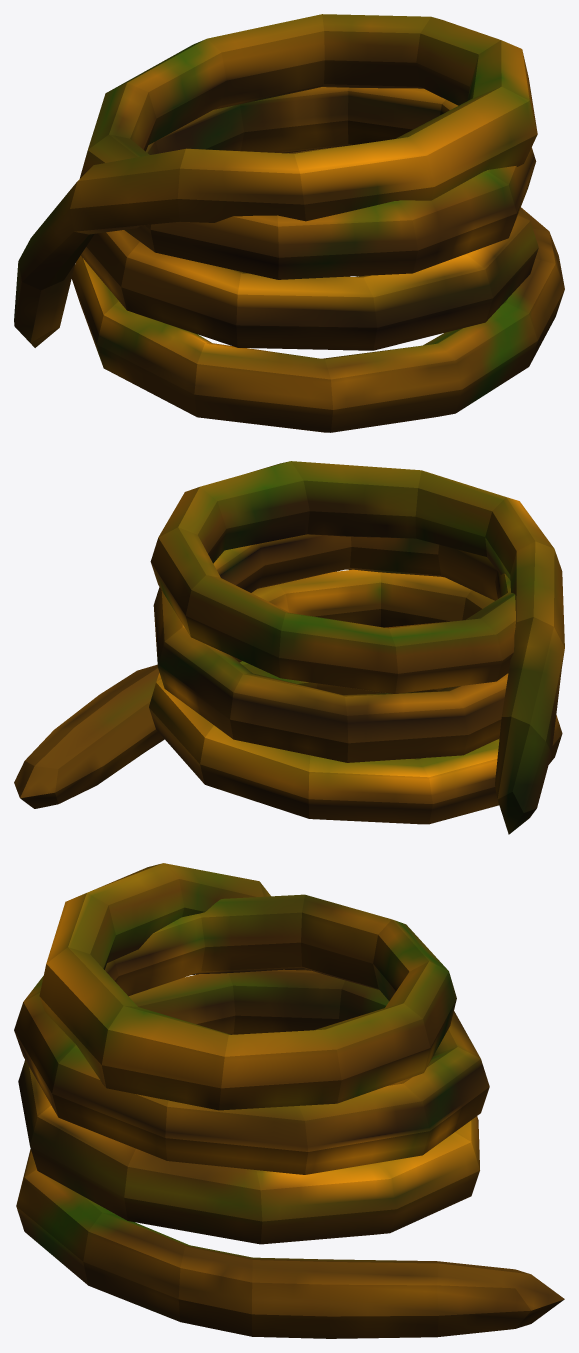
File: UnityLianeItem.fbx
3 views of the same model, one above another, from view 1: azimuth 30°, elevation 25°; view 2: azimuth 150°, elevation 25°; view 3: azimuth 270°, elevation 25° (orthographic). The views are drawn at different scales.
Visible parts, largest first — view 1: Cube; view 2: Cube; view 3: Cube.
Boxes of the visible parts, x1=… form: Cube: x1=14, y1=14, x2=564, y2=432; Cube: x1=14, y1=461, x2=564, y2=834; Cube: x1=14, y1=863, x2=564, y2=1338.
Size of the model in its own units: 85.42 by 45.02 by 78.26.
